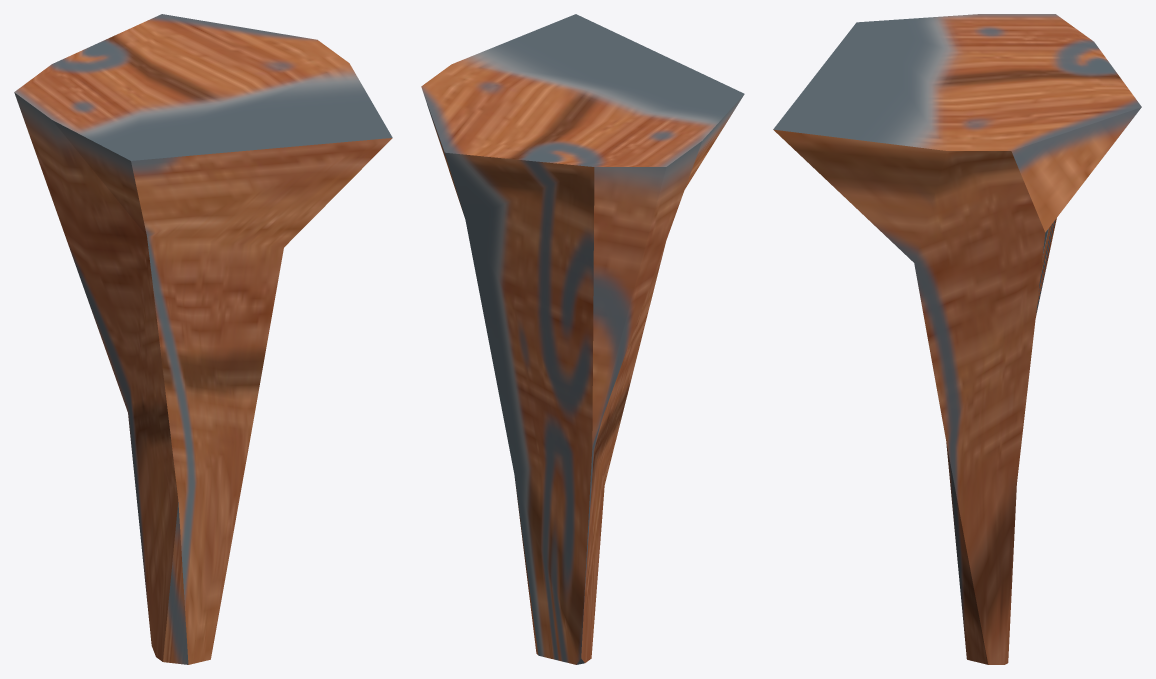
The model's file is Stone_Cone.FBX.
3 views of the same model, side by side, from view 1: azimuth 30°, elevation 25°; view 2: azimuth 150°, elevation 25°; view 3: azimuth 270°, elevation 25° (orthographic). The views are drawn at different scales.
Visible parts, largest first — view 1: Kamen_normal10; view 2: Kamen_normal10; view 3: Kamen_normal10.
Boxes of the visible parts, x1=… form: Kamen_normal10: x1=14, y1=14, x2=392, y2=664; Kamen_normal10: x1=421, y1=14, x2=744, y2=664; Kamen_normal10: x1=773, y1=14, x2=1141, y2=664.
Bounding box in the file's own units: 13.56 × 26.37 × 15.42.
